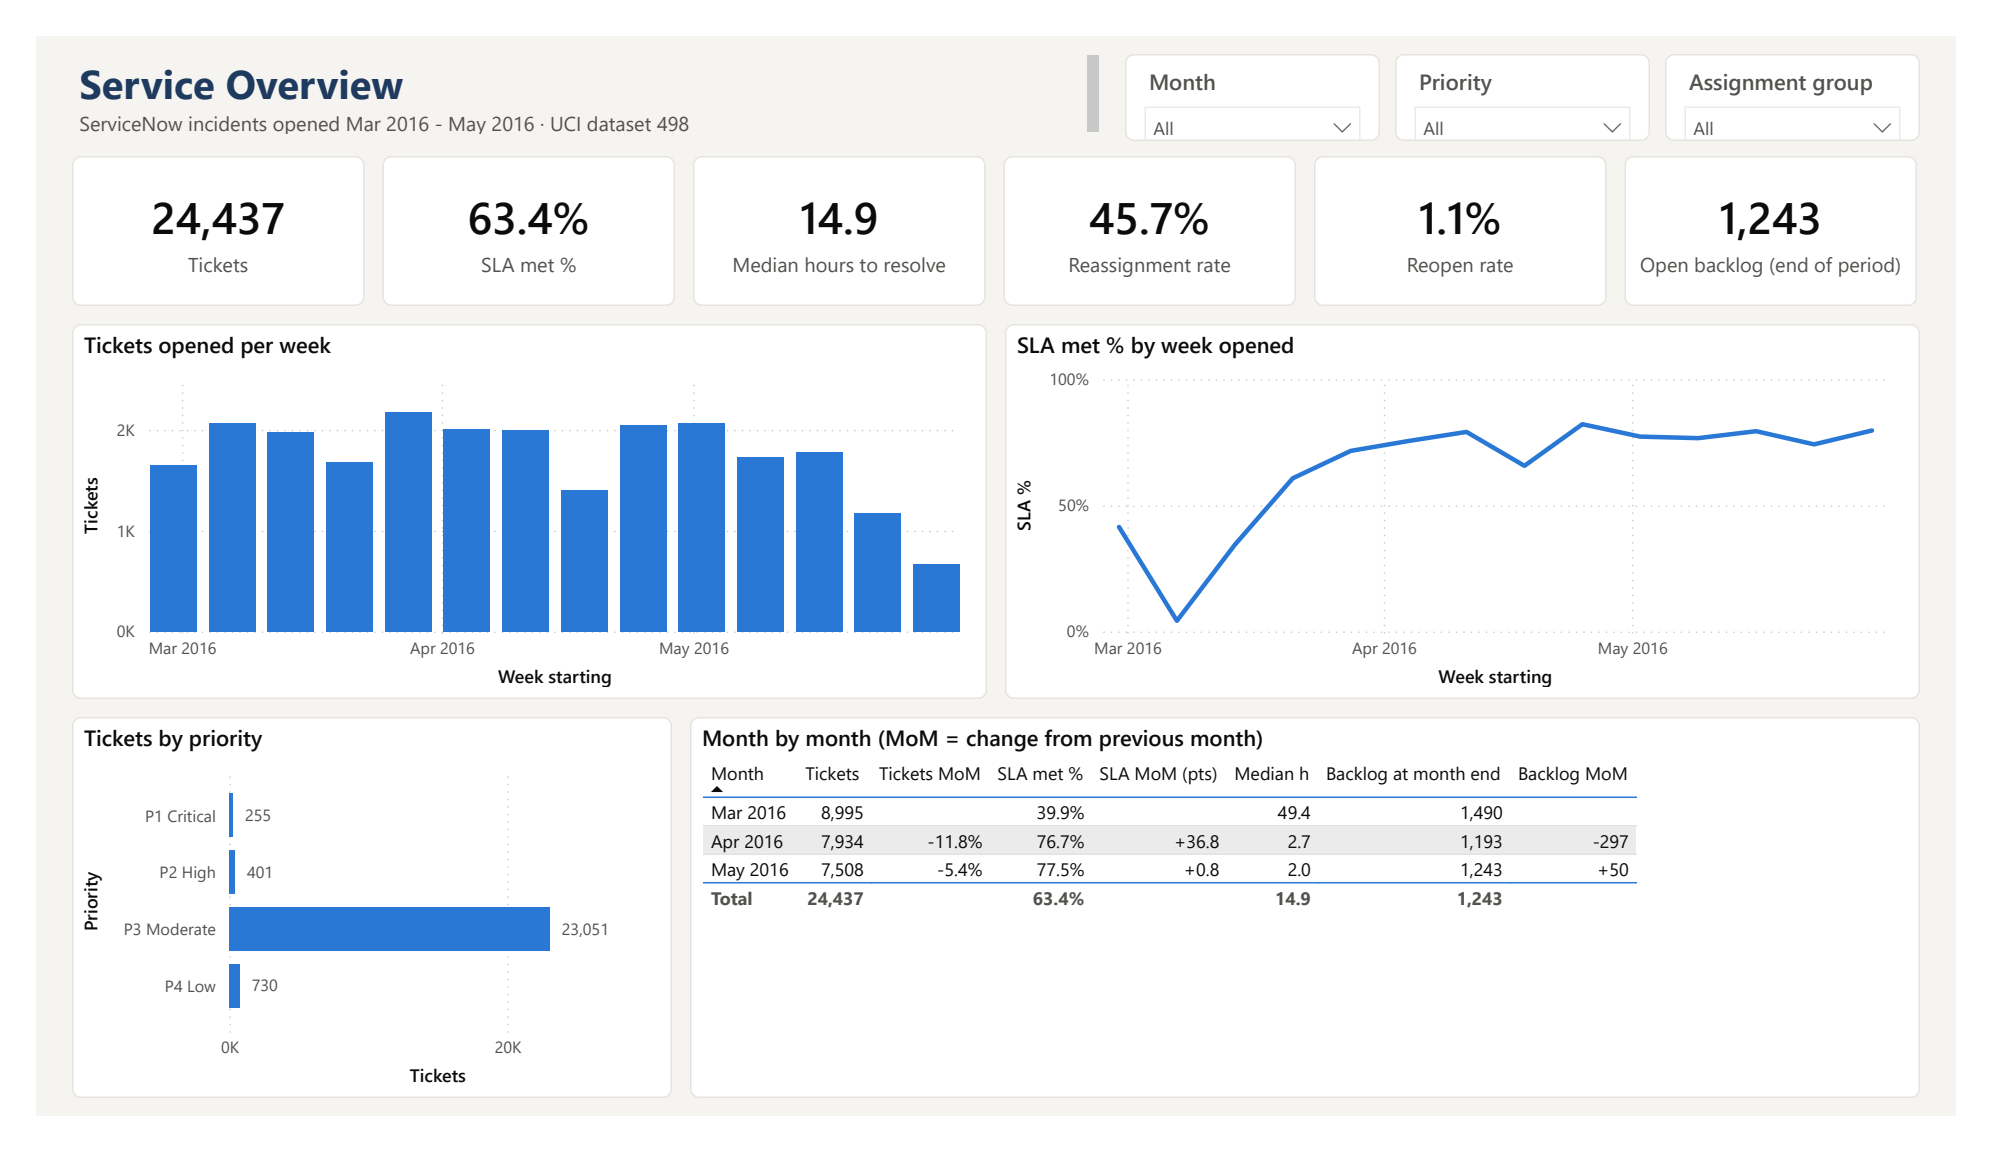

The page's visual inventory and layout, read from the dashboard file:
{"tool":"powerbi","page":{"name":"Service Overview","canvas":[1280,720],"ordinal":0},"visuals":[{"type":"textbox","box":[24,8,690,62],"z":1000},{"type":"slicer","fields":{"Values":["Date.month_name"]},"box":[726,12,170,58],"z":2000},{"type":"slicer","fields":{"Values":["Priority.priority_short"]},"box":[906,12,170,58],"z":3000},{"type":"slicer","fields":{"Values":["Assignment Group.assignment_group"]},"box":[1086,12,170,58],"z":4000},{"type":"card","fields":{"Values":["Metrics.Tickets"]},"box":[24,80,195,100],"z":5000},{"type":"card","fields":{"Values":["Metrics.SLA %"]},"box":[231,80,195,100],"z":6000},{"type":"card","fields":{"Values":["Metrics.Median Resolution (h)"]},"box":[438,80,195,100],"z":7000},{"type":"card","fields":{"Values":["Metrics.Reassignment Rate"]},"box":[645,80,195,100],"z":8000},{"type":"card","fields":{"Values":["Metrics.Reopen Rate"]},"box":[852,80,195,100],"z":9000},{"type":"card","fields":{"Values":["Metrics.Backlog"]},"box":[1059,80,195,100],"z":10000},{"type":"clusteredColumnChart","title":"Tickets opened per week","fields":{"Category":["Date.week_start"],"Y":["Metrics.Tickets"]},"box":[24,192,610,250],"z":11000},{"type":"lineChart","title":"SLA met % by week opened","fields":{"Category":["Date.week_start"],"Y":["Metrics.SLA %"]},"box":[646,192,610,250],"z":12000},{"type":"clusteredBarChart","title":"Tickets by priority","fields":{"Category":["Priority.priority_short"],"Y":["Metrics.Tickets"]},"box":[24,454,400,254],"z":13000},{"type":"tableEx","title":"Month by month (MoM = change from previous month)","fields":{"Values":["Date.month_name","Metrics.Tickets","Metrics.Tickets MoM %","Metrics.SLA %","Metrics.SLA % MoM (pts)","Metrics.Median Resolution (h)","Metrics.Backlog","Metrics.Backlog MoM"]},"box":[436,454,820,254],"z":14000}]}

Visuals, with their boxes in screenshot pixels (x1, y1, x2, y2), scaled from the page's 1280x720 canvas onto the 1992x1152 screenshot:
textbox: Rect(37, 13, 1111, 112)
slicer - Date.month_name: Rect(1130, 19, 1394, 112)
slicer - Priority.priority_short: Rect(1410, 19, 1675, 112)
slicer - Assignment Group.assignment_group: Rect(1690, 19, 1955, 112)
card - Metrics.Tickets: Rect(37, 128, 341, 288)
card - Metrics.SLA %: Rect(359, 128, 663, 288)
card - Metrics.Median Resolution (h): Rect(682, 128, 985, 288)
card - Metrics.Reassignment Rate: Rect(1004, 128, 1307, 288)
card - Metrics.Reopen Rate: Rect(1326, 128, 1629, 288)
card - Metrics.Backlog: Rect(1648, 128, 1952, 288)
"Tickets opened per week" clusteredColumnChart: Rect(37, 307, 987, 707)
"SLA met % by week opened" lineChart: Rect(1005, 307, 1955, 707)
"Tickets by priority" clusteredBarChart: Rect(37, 726, 660, 1133)
"Month by month (MoM = change from previous month)" tableEx: Rect(679, 726, 1955, 1133)
